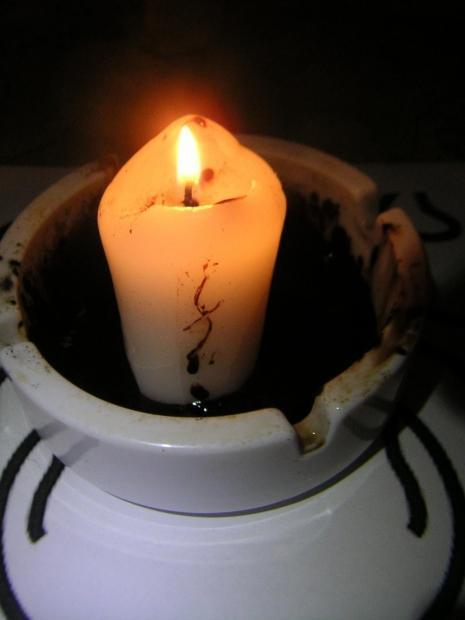Fire: (2, 192, 379, 424), (368, 245, 379, 280)
